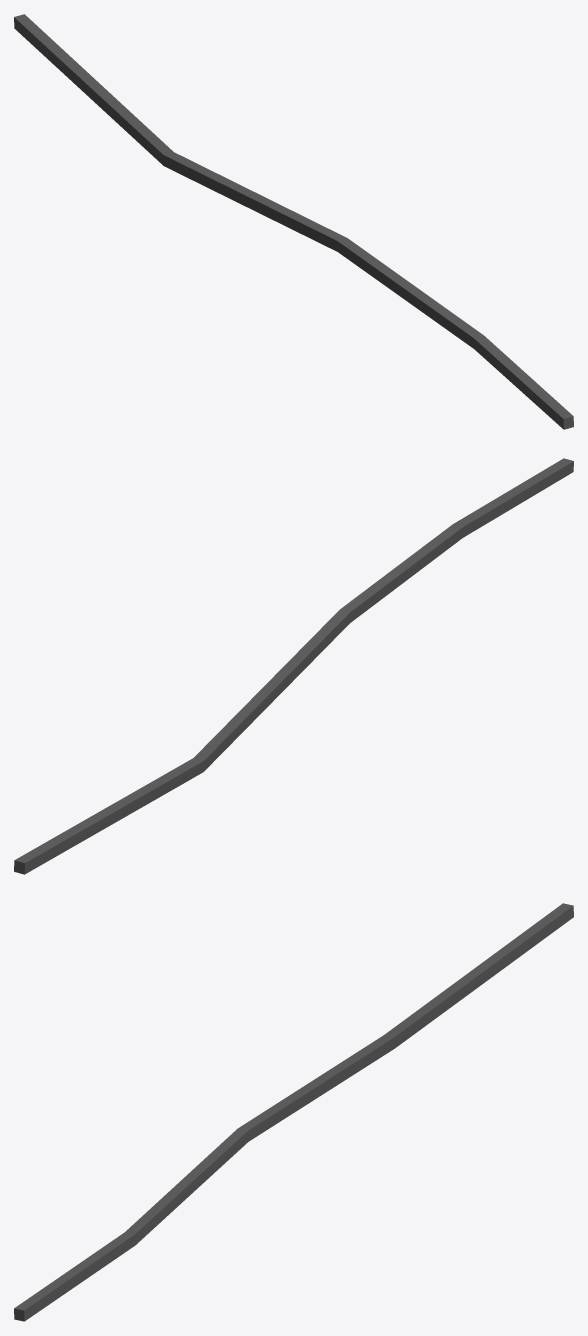
The model's file is RreinforcingBars_B_4_.fbx.
The picture shows the model from 3 angles, top to bottom: view 1: azimuth 30°, elevation 25°; view 2: azimuth 150°, elevation 25°; view 3: azimuth 330°, elevation 25°; orthographic projection.
Visible parts, largest first — view 1: RreinforcingBars_B_4; view 2: RreinforcingBars_B_4; view 3: RreinforcingBars_B_4.
Boxes of the visible parts, x1,y1,x2,y2 form: RreinforcingBars_B_4: [14, 14, 573, 429]; RreinforcingBars_B_4: [14, 458, 573, 874]; RreinforcingBars_B_4: [14, 903, 573, 1321].
Size of the model in its own units: 7.64 by 7.73 by 197.
